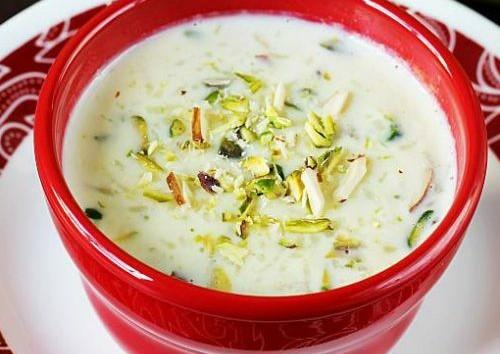Kheer: (61, 13, 457, 296)
